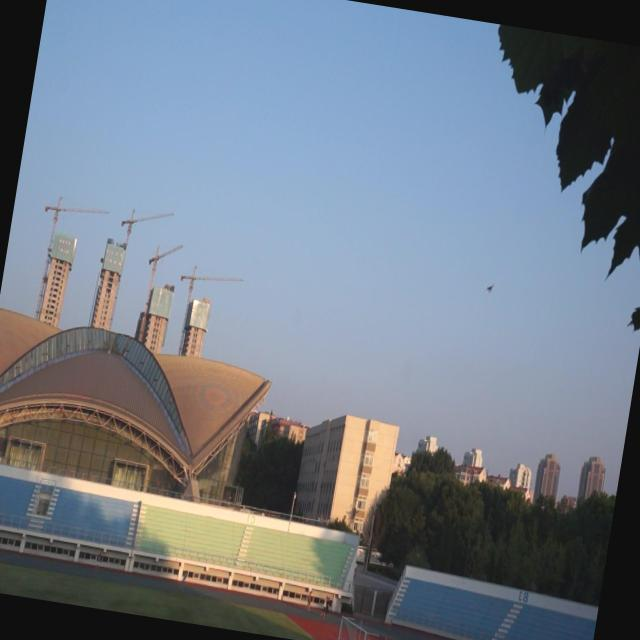drone: (484, 280, 496, 294)
